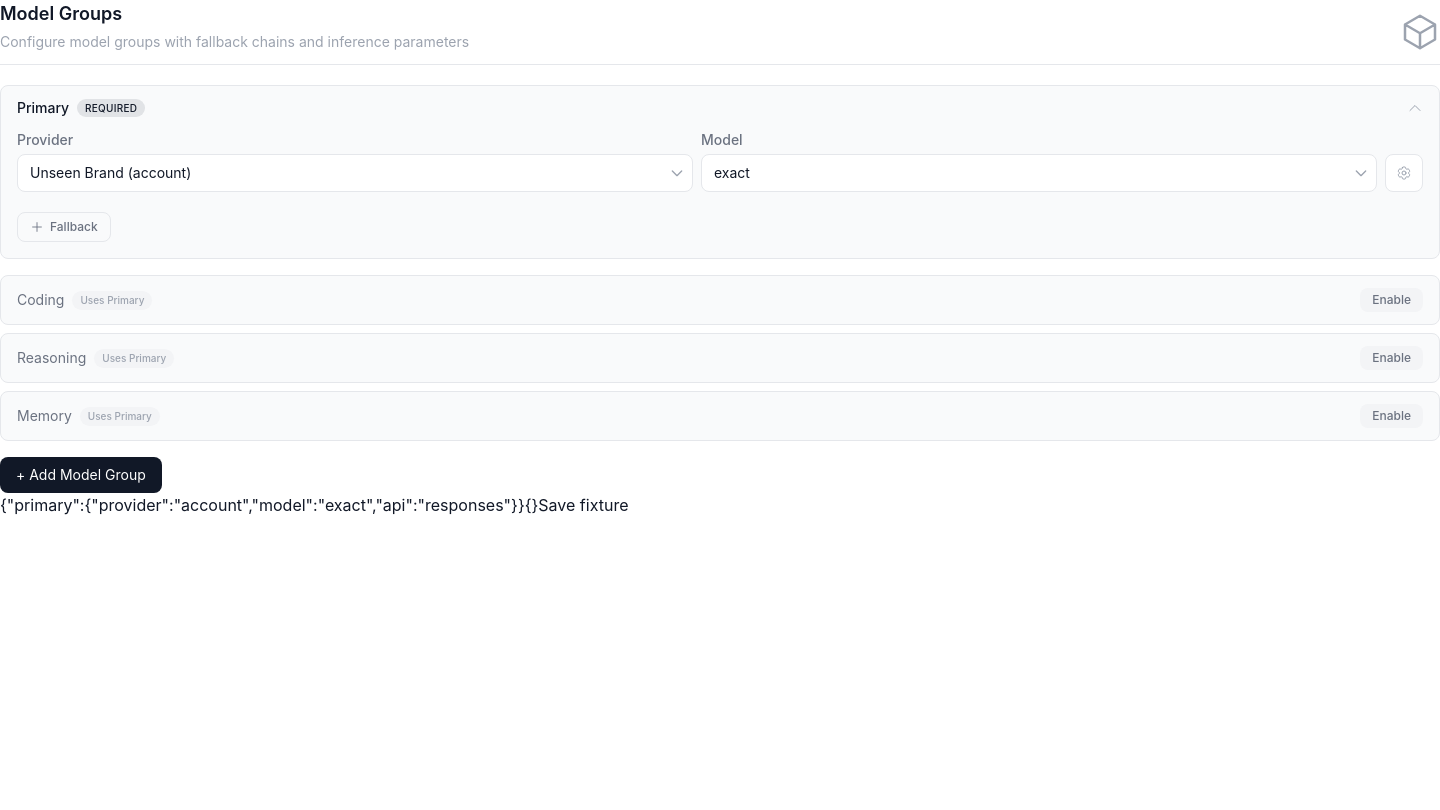
Scenario: does not show OpenRouter routing for a non-openrouter connection
Click the button named "Primary parameters". click: (1404, 173)
box: top-left (1385, 154), bottom-right (1423, 192)
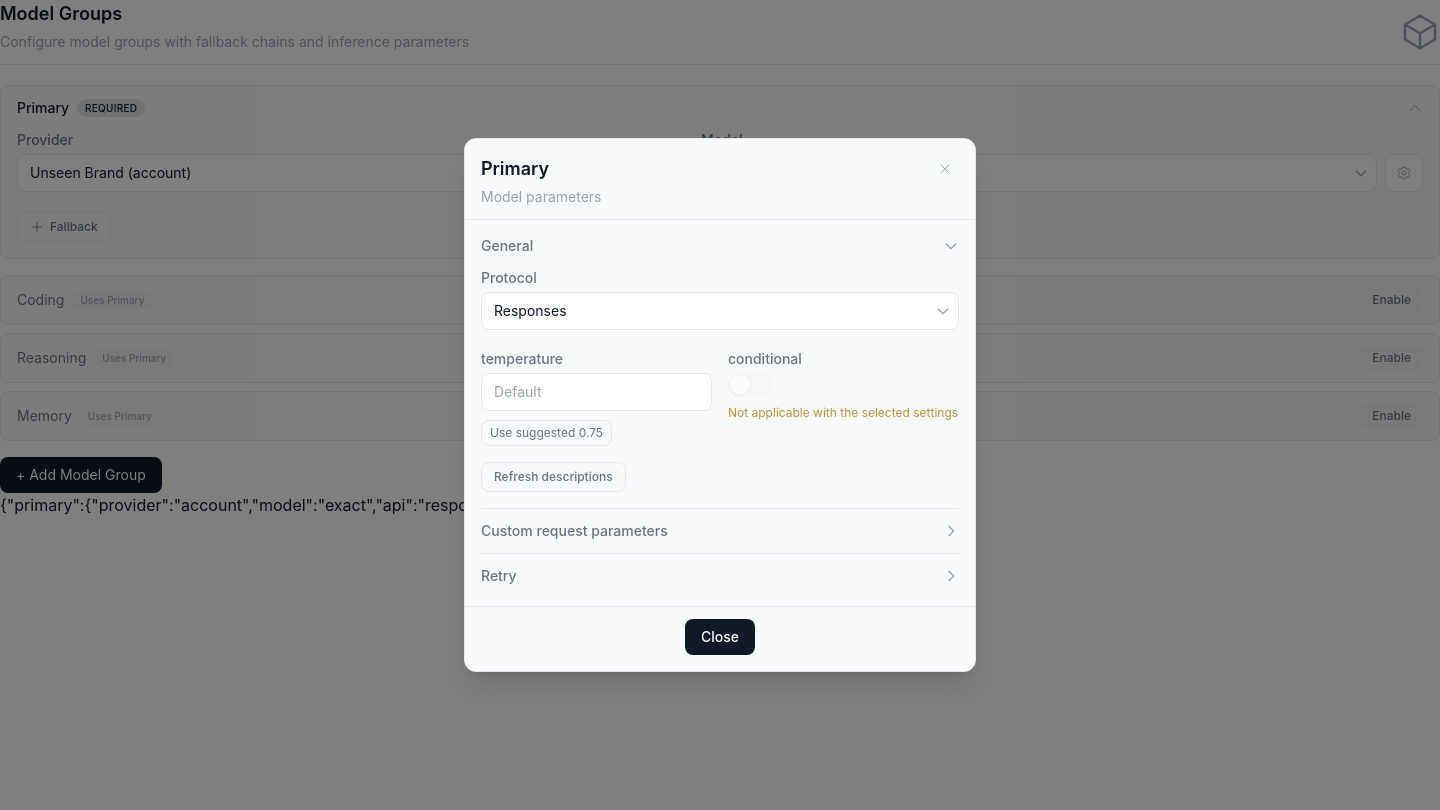
Check: the number field labelled "temperature" is shown, box top-left (481, 373), bottom-right (712, 411)
